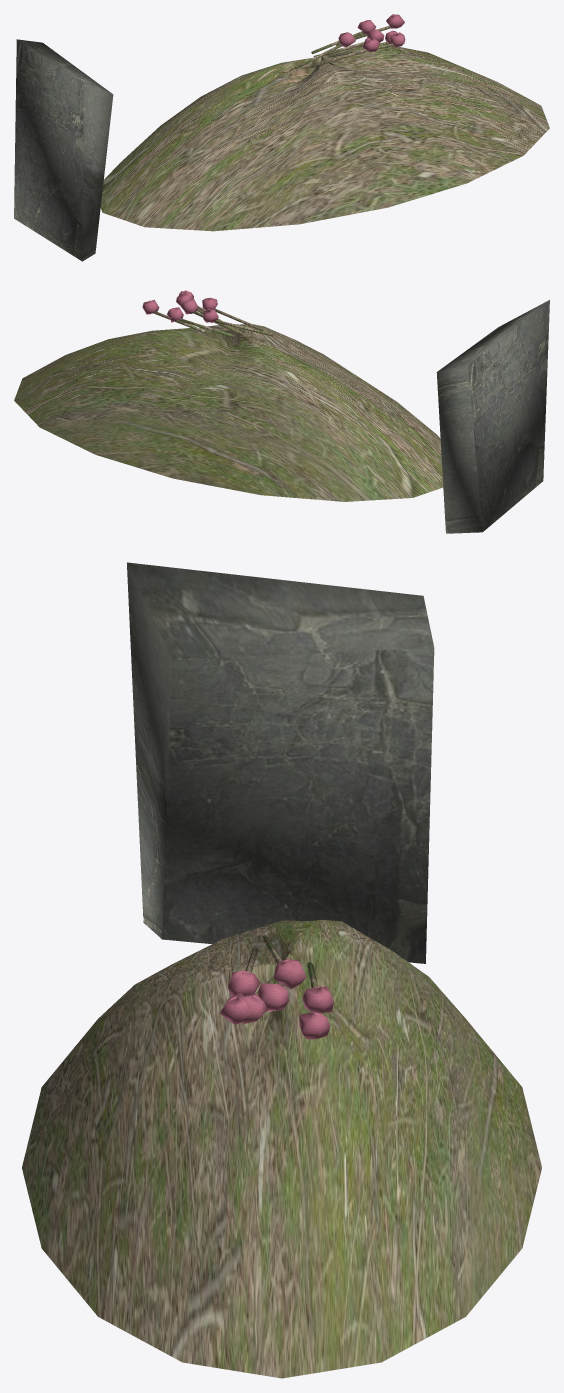
The model's file is kit_sf_small_grave_p.glb.
3 views of the same model, one above another, from view 1: azimuth 30°, elevation 25°; view 2: azimuth 150°, elevation 25°; view 3: azimuth 270°, elevation 25° (orthographic). The views are drawn at different scales.
Parts seen in each view (by area): view 1: kit_sf_small_grave_p; view 2: kit_sf_small_grave_p; view 3: kit_sf_small_grave_p.
Part boxes in pixels (x1,y1,x2,y2): kit_sf_small_grave_p: (14, 14, 549, 261); kit_sf_small_grave_p: (14, 290, 549, 533); kit_sf_small_grave_p: (22, 562, 541, 1378).
Size of the model in its own units: 1.3 by 0.4746 by 0.6.
Materials: 1 (1 with a texture image).
